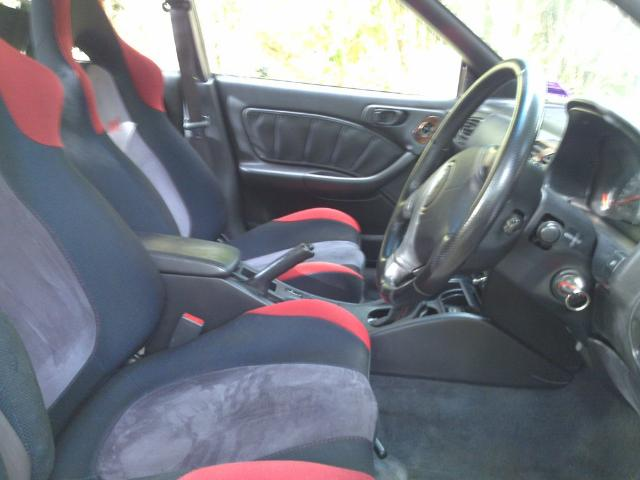Seatbelt: (167, 7, 211, 172)
